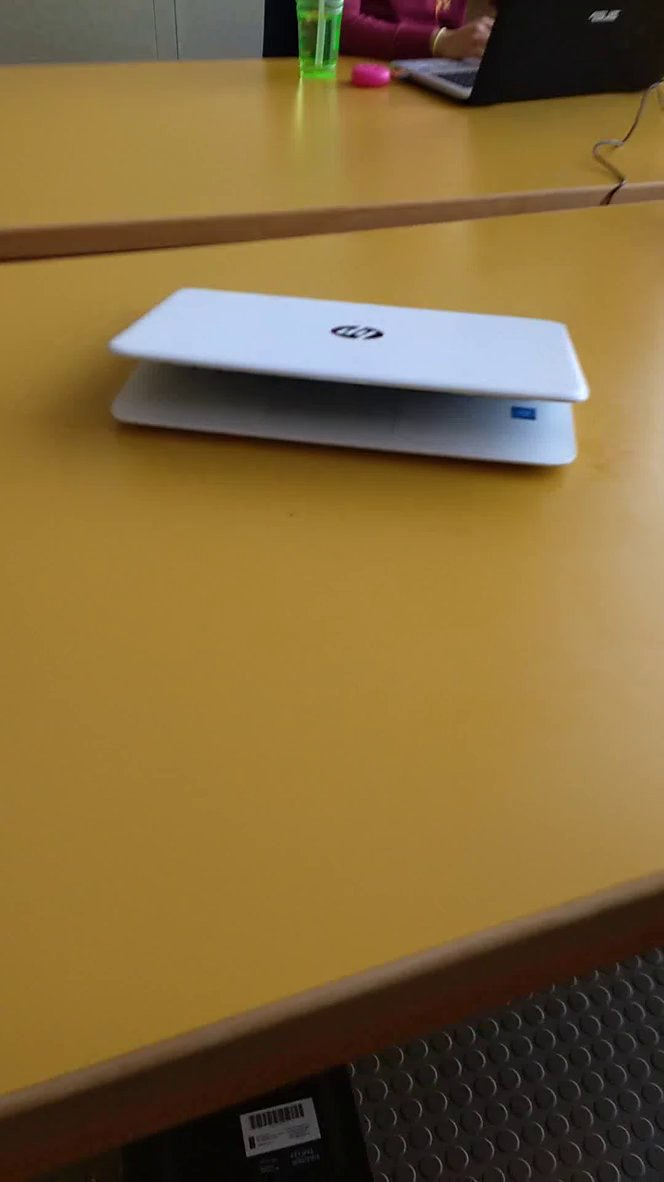laptop: (90, 274, 618, 529), (384, 1, 662, 118)
